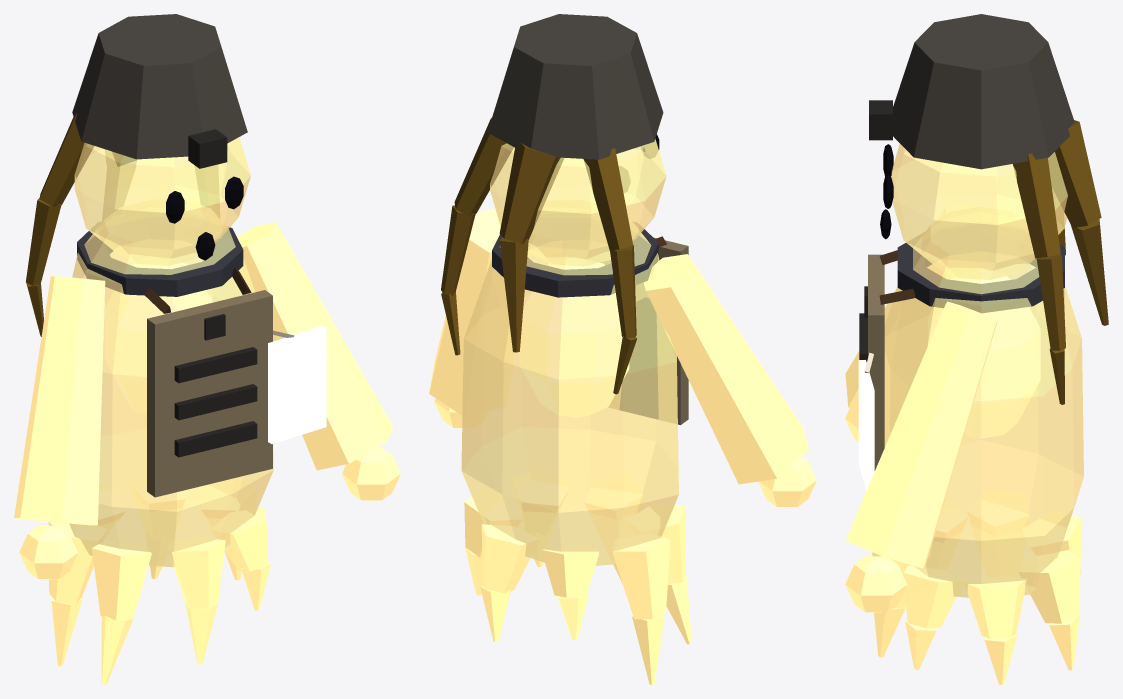
Rendered from soul_day_number_named.glb.
3 renders of one model, left to right at view 1: azimuth 30°, elevation 25°; view 2: azimuth 150°, elevation 25°; view 3: azimuth 270°, elevation 25°, orthographic. The views are drawn at different scales.
Visible parts, largest first — view 1: soul_day_number_named; view 2: soul_day_number_named; view 3: soul_day_number_named.
Boxes of the visible parts, bbox=[...] form: soul_day_number_named: bbox=[14, 14, 400, 684]; soul_day_number_named: bbox=[429, 14, 816, 684]; soul_day_number_named: bbox=[845, 14, 1108, 684].
Bounding box in the file's own units: 0.9481 × 1.49 × 0.5516.
